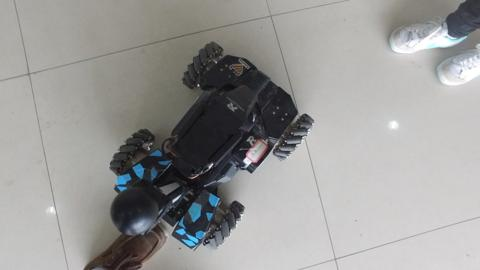chariot: (78, 53, 317, 247)
